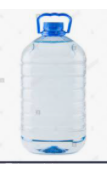Bottle: (22, 14, 87, 155)
